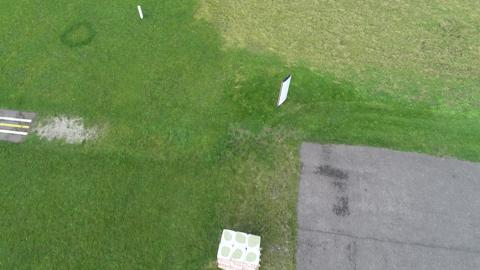RockwoolPallet: (215, 229, 264, 270)
